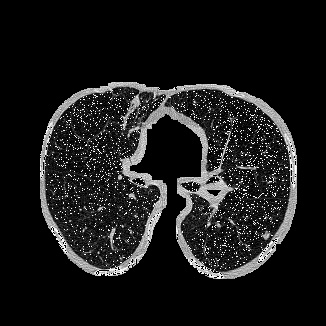PN: (262, 231, 270, 239)
